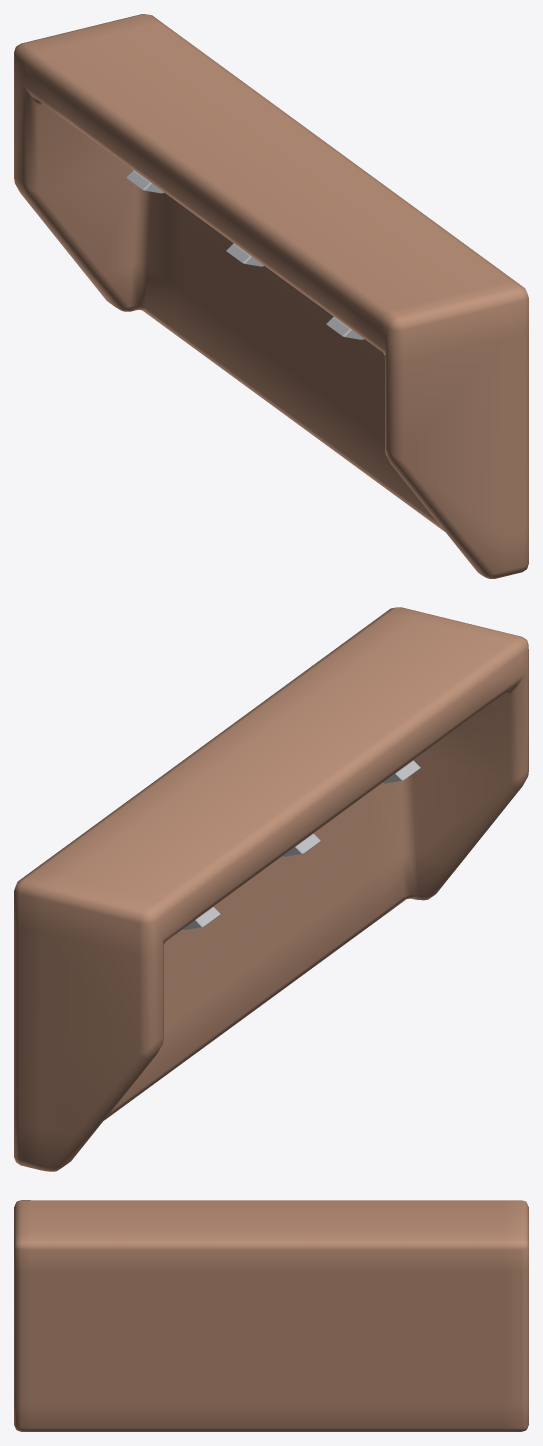
The model's file is Bath_hook_display.fbx.
3 views of the same model, one above another, from view 1: azimuth 30°, elevation 25°; view 2: azimuth 150°, elevation 25°; view 3: azimuth 270°, elevation 25° (orthographic). The views are drawn at different scales.
Visible parts, largest first — view 1: Bath_hook_display; view 2: Bath_hook_display; view 3: Bath_hook_display.
Boxes of the visible parts, bbox=[...] form: Bath_hook_display: bbox=[14, 14, 528, 578]; Bath_hook_display: bbox=[14, 607, 528, 1171]; Bath_hook_display: bbox=[14, 1200, 528, 1431].
Size of the model in its own units: 16.15 by 31.43 by 76.55.
